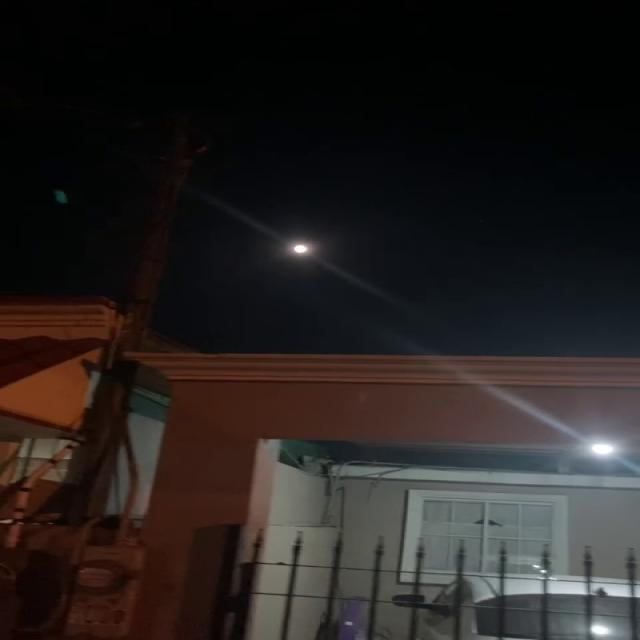moon: (288, 240, 316, 261)
